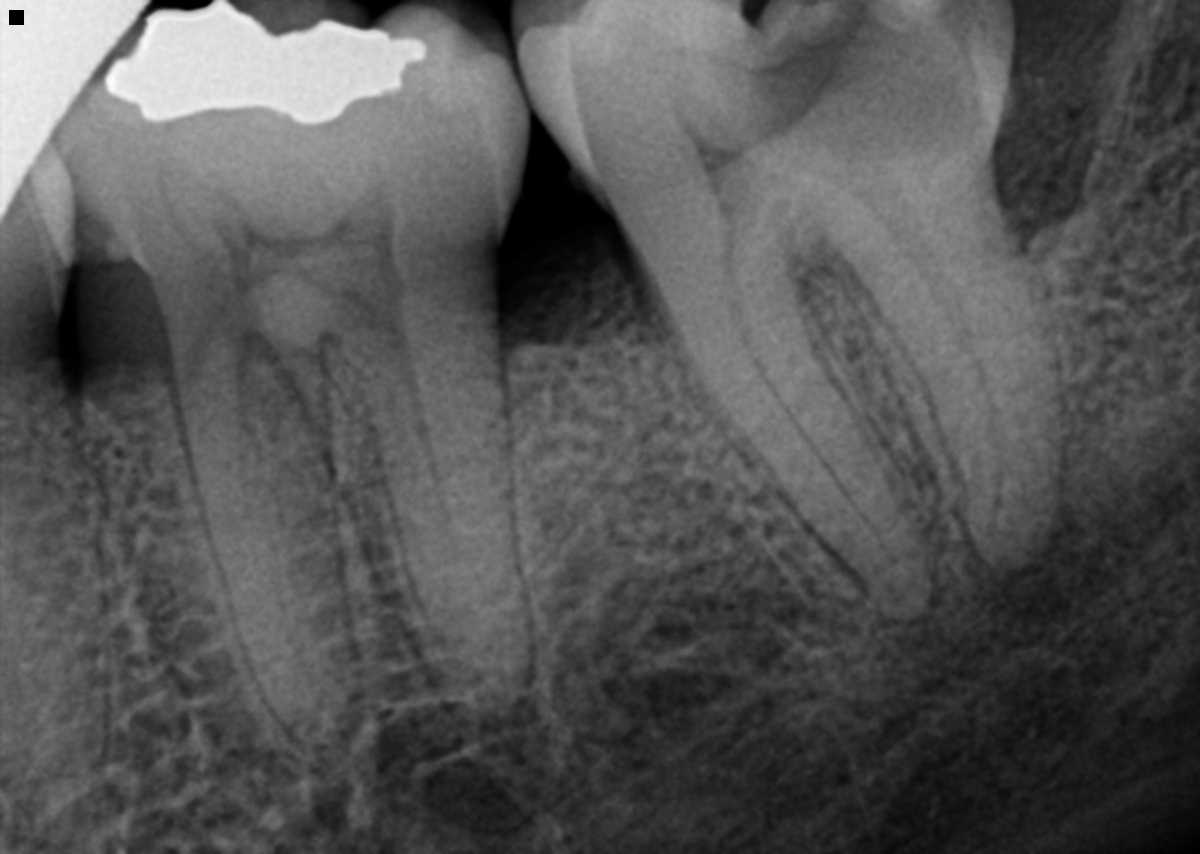Apical Lesion: (966, 454, 1139, 630)
Distal Canal: (904, 229, 1003, 540), (397, 334, 472, 585)
Distal Root: (332, 296, 534, 722), (841, 191, 1064, 573)
Main Root: (0, 377, 108, 785)
Mesial Canal: (730, 291, 905, 600), (239, 353, 269, 506)
Mesial Root: (656, 275, 933, 626), (170, 337, 364, 770)
decay: (746, 2, 981, 161)
